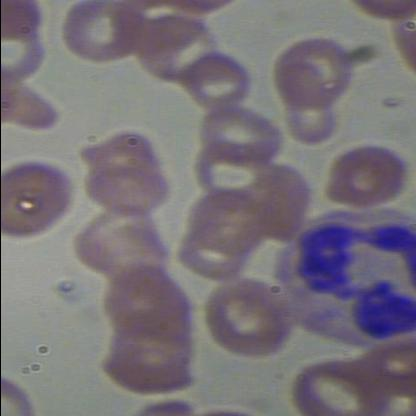WBC: (272, 207, 416, 347)
